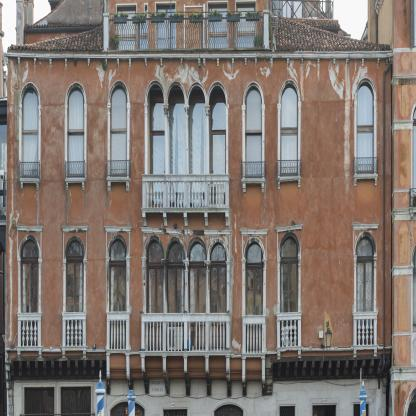Balcony: (140, 312, 231, 356), (141, 173, 230, 213), (106, 311, 131, 354), (276, 312, 303, 351), (352, 312, 379, 350), (242, 315, 266, 357), (17, 312, 42, 351), (62, 312, 87, 351)
Building Outline: (3, 0, 393, 416)
Cornice: (140, 227, 232, 236), (276, 224, 304, 234), (352, 223, 380, 231), (16, 225, 44, 232), (104, 226, 132, 233), (240, 229, 269, 235), (62, 226, 89, 232)
Door: (20, 260, 39, 347), (245, 265, 263, 354), (356, 259, 374, 346), (280, 260, 298, 347), (66, 259, 84, 346), (210, 263, 227, 351), (189, 263, 206, 351), (167, 263, 184, 351), (146, 263, 163, 351), (109, 263, 126, 351), (150, 131, 166, 207), (210, 132, 226, 207)
Facade: (6, 54, 391, 416)
Floor: (7, 65, 391, 219), (5, 219, 391, 362)
Floor Slab: (5, 351, 390, 362), (8, 208, 392, 219), (8, 54, 391, 64)
Glass Wall: (189, 103, 207, 207), (168, 103, 185, 207)
Ground Floor: (5, 362, 390, 415)
Molding: (3, 51, 393, 67), (272, 358, 390, 382), (10, 360, 107, 381)
Pillar: (163, 103, 170, 207), (204, 104, 211, 207), (183, 104, 190, 207)
Roof: (7, 10, 391, 52)
Sill: (106, 176, 131, 193), (241, 178, 266, 194), (353, 174, 379, 187), (277, 176, 301, 190), (19, 177, 40, 192), (65, 178, 86, 191)
Top Floor: (104, 1, 269, 65)
Window: (146, 84, 165, 206), (187, 86, 206, 207), (167, 85, 185, 207), (208, 86, 226, 207), (280, 84, 298, 177), (21, 86, 39, 178), (357, 81, 374, 174), (110, 85, 127, 177), (67, 86, 84, 178), (245, 86, 262, 178), (117, 5, 147, 50), (236, 2, 256, 48), (208, 2, 227, 48), (156, 3, 175, 49), (210, 102, 226, 131), (150, 102, 166, 131), (356, 236, 375, 259), (245, 241, 263, 265), (280, 236, 298, 259), (146, 239, 163, 263), (188, 241, 206, 263), (109, 239, 126, 262), (20, 239, 39, 259), (167, 241, 184, 263), (66, 239, 84, 259), (210, 242, 227, 263)
dont: (95, 370, 106, 416), (359, 380, 367, 416), (127, 390, 136, 416)
